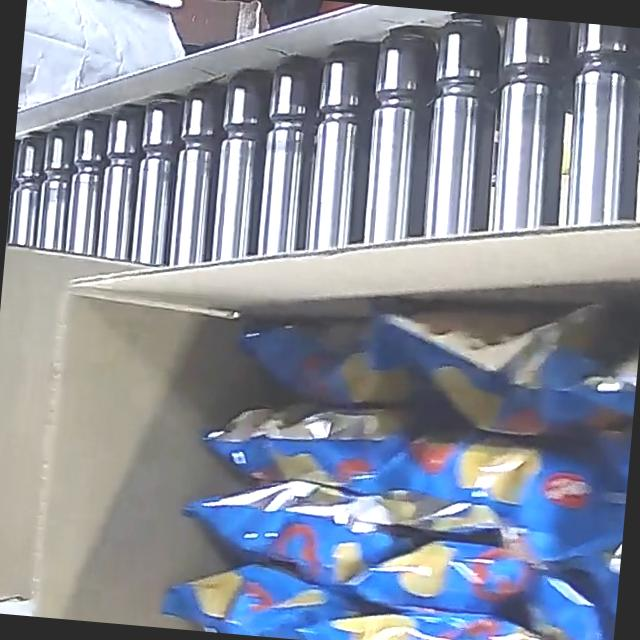paprika: (156, 267, 640, 640)
